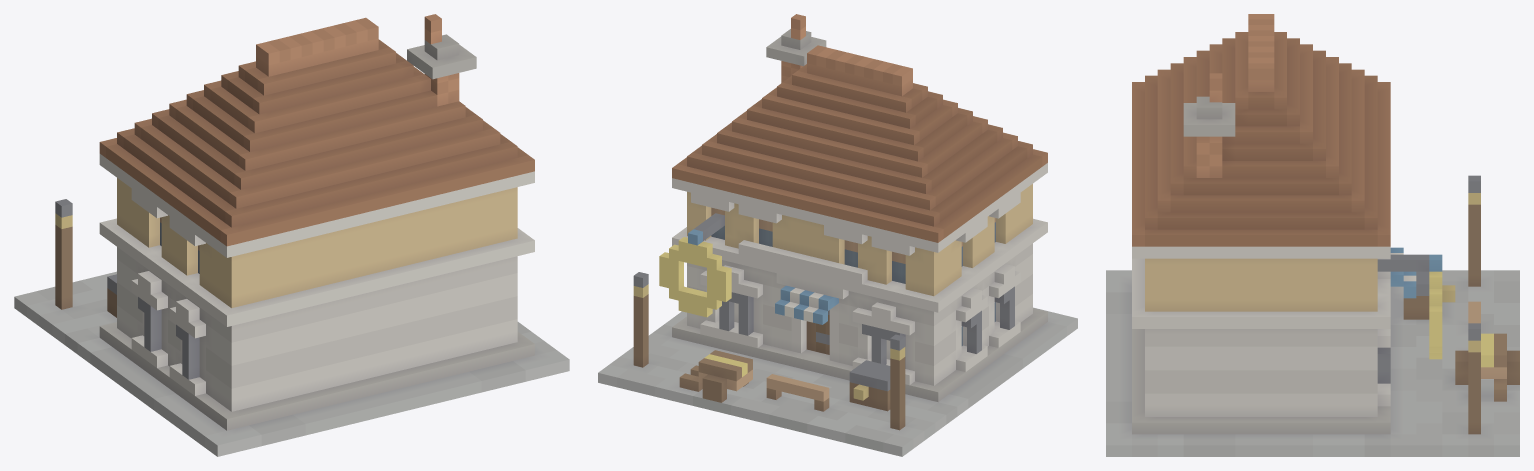
The model's file is goldsmith.glb.
3 renders of one model, left to right at view 1: azimuth 30°, elevation 25°; view 2: azimuth 150°, elevation 25°; view 3: azimuth 270°, elevation 25°, orthographic. The views are drawn at different scales.
Visible parts, largest first — view 1: goldsmith; view 2: goldsmith; view 3: goldsmith.
Part boxes in pixels (x1,y1,x2,y2): goldsmith: (14, 14, 569, 456); goldsmith: (598, 14, 1077, 456); goldsmith: (1106, 14, 1519, 456).
Bounding box in the file's own units: 4 × 3.62 × 4.
